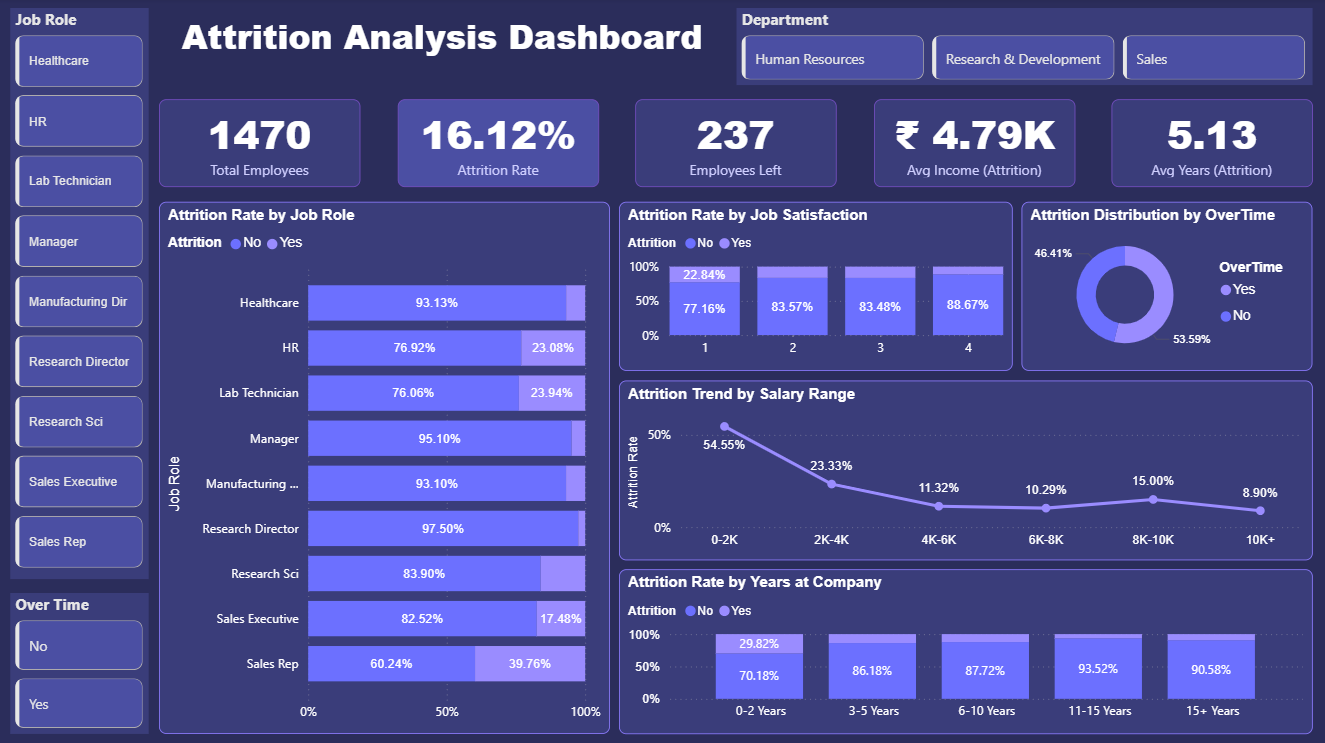

The page's visual inventory and layout, read from the dashboard file:
{"tool":"powerbi","page":{"name":"Page 1","canvas":[1280,720],"ordinal":0},"visuals":[{"type":"card","fields":{"Values":["HR Employee Attrition.Attrition Rate"]},"box":[384.4,97.7,194,84.5],"z":1000},{"type":"card","fields":{"Values":["HR Employee Attrition.Total Employees"]},"box":[154.4,97.7,194.2,84.5],"z":2000},{"type":"card","fields":{"Values":["HR Employee Attrition.Employees Left"]},"box":[614.2,97.7,194,84.5],"z":3000},{"type":"card","fields":{"Values":["HR Employee Attrition.Avg Income (Attrition)"]},"box":[844,97.7,194,84.5],"z":4000},{"type":"card","fields":{"Values":["HR Employee Attrition.Avg Years (Attrition)"]},"box":[1073.7,97.7,194,84.5],"z":5000},{"type":"hundredPercentStackedBarChart","title":"Attrition Rate by Job Role","fields":{"Category":["HR Employee Attrition.Job Role Short"],"Series":["HR Employee Attrition.Attrition"],"Y":["CountNonNull(HR Employee Attrition.Attrition)"]},"box":[154.4,196.6,435.5,513.9],"z":6000},{"type":"donutChart","title":"Attrition Distribution by OverTime","fields":{"Category":["HR Employee Attrition.OverTime"],"Y":["HR Employee Attrition.Employees Left"]},"box":[986.9,196.6,281.1,162.9],"z":7000},{"type":"hundredPercentStackedColumnChart","title":"Attrition Rate by Job Satisfaction","fields":{"Category":["HR Employee Attrition.JobSatisfaction"],"Series":["HR Employee Attrition.Attrition"],"Y":["CountNonNull(HR Employee Attrition.Attrition)"]},"box":[598.4,196.6,380,162.9],"z":8000},{"type":"hundredPercentStackedColumnChart","title":"Attrition Rate by Years at Company","fields":{"Category":["HR Employee Attrition.Years Group"],"Series":["HR Employee Attrition.Attrition"],"Y":["CountNonNull(HR Employee Attrition.Attrition)"]},"box":[598.4,551.3,669.6,159.3],"z":9000},{"type":"textbox","box":[154.4,9.7,546.5,74.8],"z":10000},{"type":"advancedSlicerVisual","fields":{"Values":["HR Employee Attrition.Department"]},"box":[711.8,9.7,556.2,74.8],"z":11000},{"type":"advancedSlicerVisual","title":"Job Role","fields":{"Values":["HR Employee Attrition.Job Role Short"]},"box":[10.9,9.7,133.9,551.3],"z":12000},{"type":"advancedSlicerVisual","title":"Over Time","fields":{"Values":["HR Employee Attrition.OverTime"]},"box":[10.9,574.3,133.9,136.3],"z":13000},{"type":"lineChart","title":"Attrition Trend by Salary Range","fields":{"Y":["HR Employee Attrition.Attrition Rate"],"Category":["HR Employee Attrition.Income Range"]},"box":[598.4,369.2,669.6,173.7],"z":14000}]}

Visuals, with their boxes in screenshot pixels (x1, y1, x2, y2), scaled from the page's 1280x720 canvas onto the 1325x743 screenshot:
card - HR Employee Attrition.Attrition Rate: bbox(398, 101, 599, 188)
card - HR Employee Attrition.Total Employees: bbox(160, 101, 361, 188)
card - HR Employee Attrition.Employees Left: bbox(636, 101, 837, 188)
card - HR Employee Attrition.Avg Income (Attrition): bbox(874, 101, 1074, 188)
card - HR Employee Attrition.Avg Years (Attrition): bbox(1111, 101, 1312, 188)
"Attrition Rate by Job Role" hundredPercentStackedBarChart: bbox(160, 203, 611, 733)
"Attrition Distribution by OverTime" donutChart: bbox(1022, 203, 1313, 371)
"Attrition Rate by Job Satisfaction" hundredPercentStackedColumnChart: bbox(619, 203, 1013, 371)
"Attrition Rate by Years at Company" hundredPercentStackedColumnChart: bbox(619, 569, 1313, 733)
textbox: bbox(160, 10, 726, 87)
advancedSlicerVisual - HR Employee Attrition.Department: bbox(737, 10, 1313, 87)
"Job Role" advancedSlicerVisual: bbox(11, 10, 150, 579)
"Over Time" advancedSlicerVisual: bbox(11, 593, 150, 733)
"Attrition Trend by Salary Range" lineChart: bbox(619, 381, 1313, 560)
